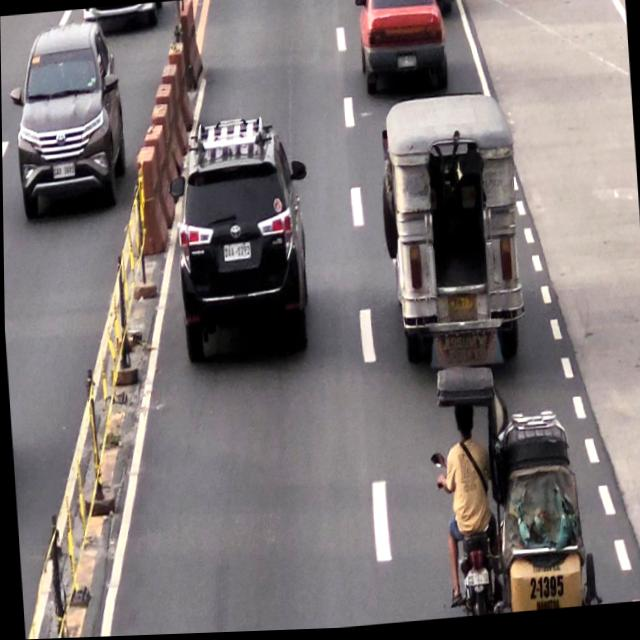Car: (171, 118, 314, 357), (358, 0, 445, 94)
Jeep: (389, 97, 521, 367)
License-Plate: (448, 291, 478, 319), (223, 243, 253, 267)
Motorcycle: (464, 569, 487, 592)
Tricycle: (433, 356, 596, 622)
